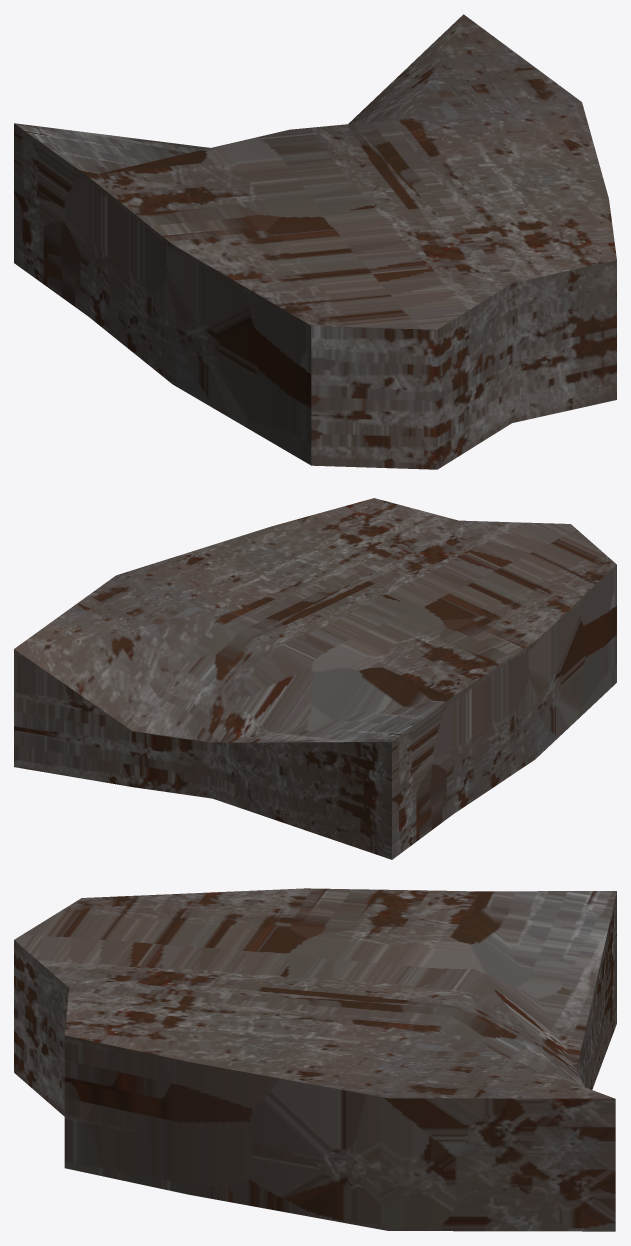
Rendered from PiedraPoste.obj.
3 views of the same model, one above another, from view 1: azimuth 30°, elevation 25°; view 2: azimuth 150°, elevation 25°; view 3: azimuth 270°, elevation 25° (orthographic). The views are drawn at different scales.
Parts seen in each view (by area): view 1: Box135; view 2: Box135; view 3: Box135.
Part boxes in pixels (x1=…): Box135: x1=14, y1=14, x2=616, y2=469; Box135: x1=14, y1=498, x2=616, y2=859; Box135: x1=14, y1=888, x2=616, y2=1231.
Bounding box in the file's own units: 23.26 × 6.84 × 28.17.
